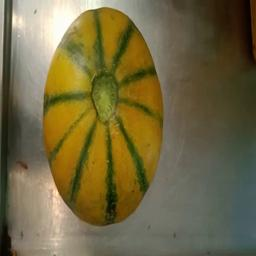Melon Semifresh: (43, 5, 168, 239)
